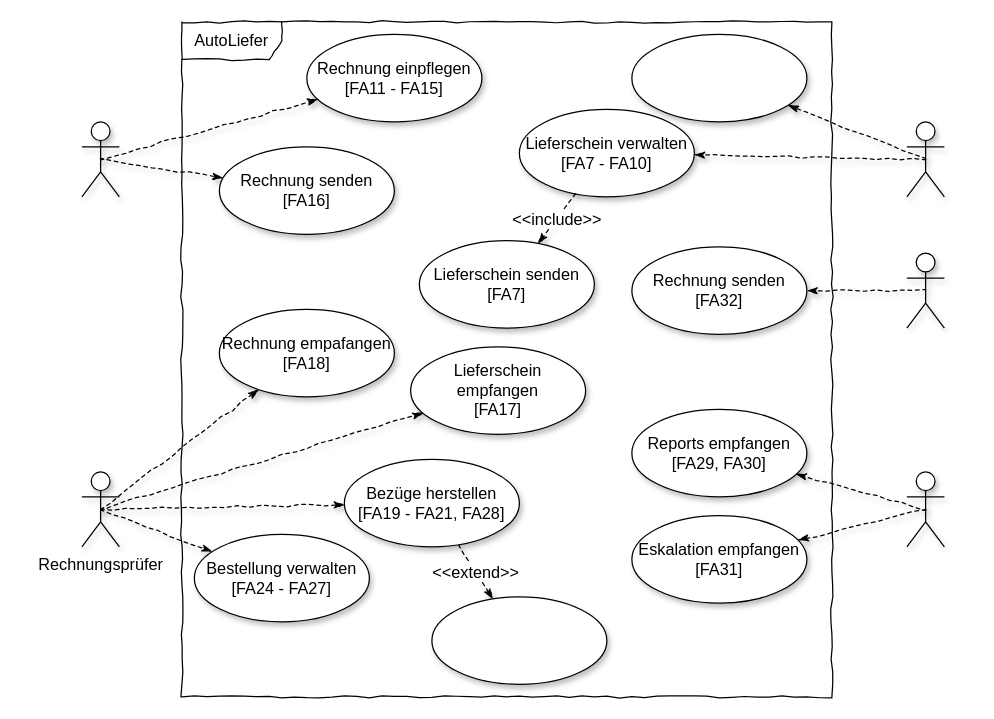
Image size: 994x719. Some labels were removed from this diagram. Each missing label, with the centre of its shape:
"Auftraggeber" belongs at [926,161].
"Einkäufer" belongs at [926,511].
"Lieferant" belongs at [926,292].
"Lieferschein einpflegen [FA1 - FA6]" belongs at [720,79].
"Rechnungsempfänger" belongs at [101,161].
"Transaktion durchführen [FA22, FA23]" belongs at [520,642].
